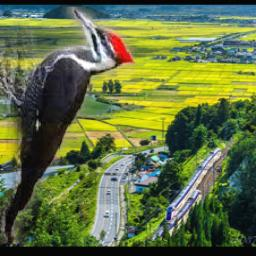Woodpecker: (0, 8, 135, 245)
